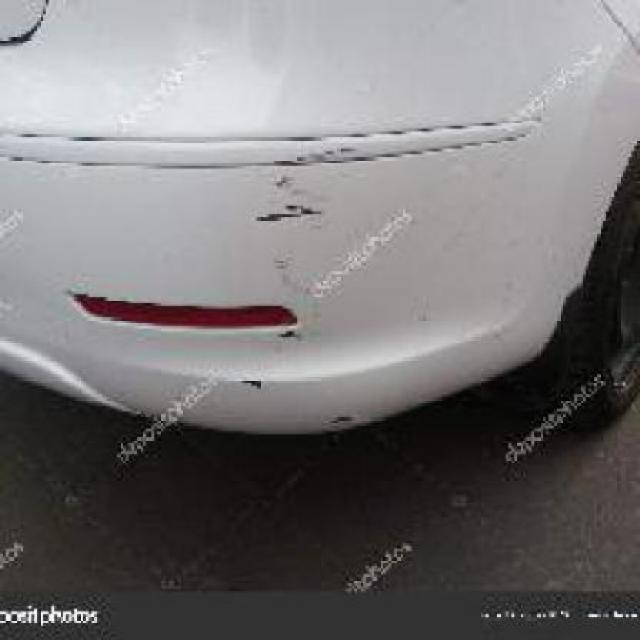dent-or-scratch: (240, 192, 326, 266)
